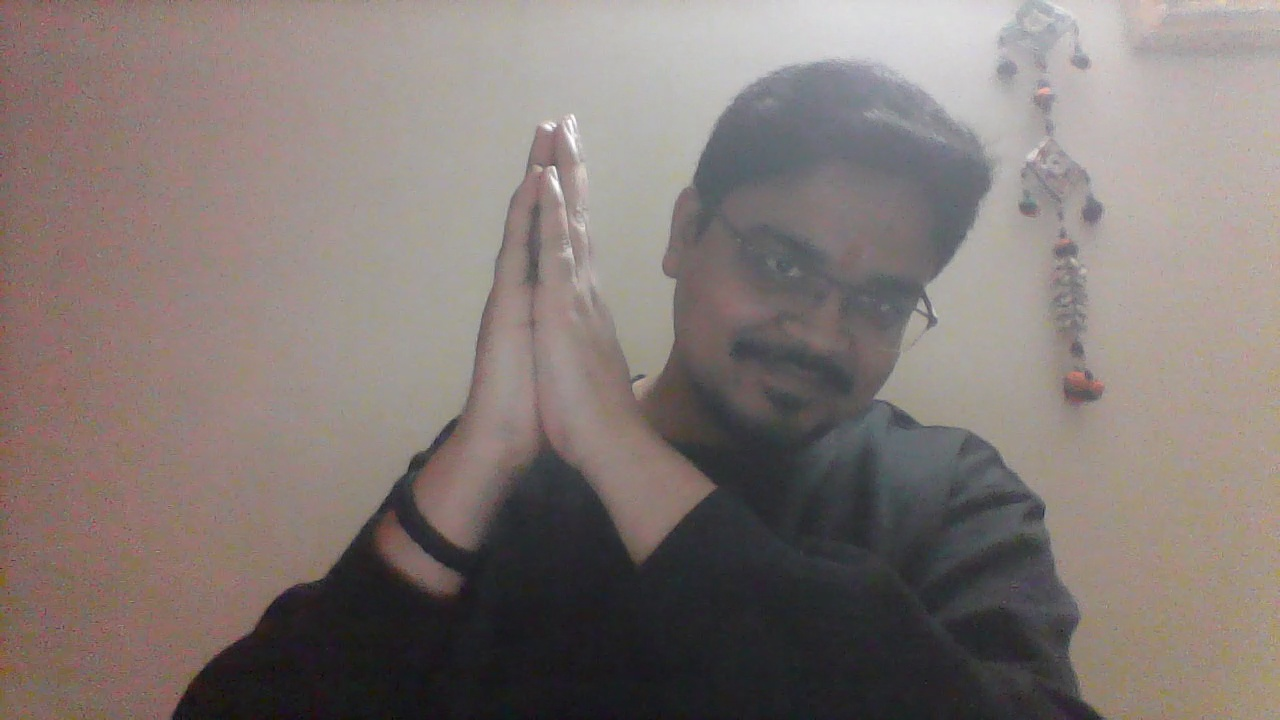Namaste: (450, 108, 647, 538)
